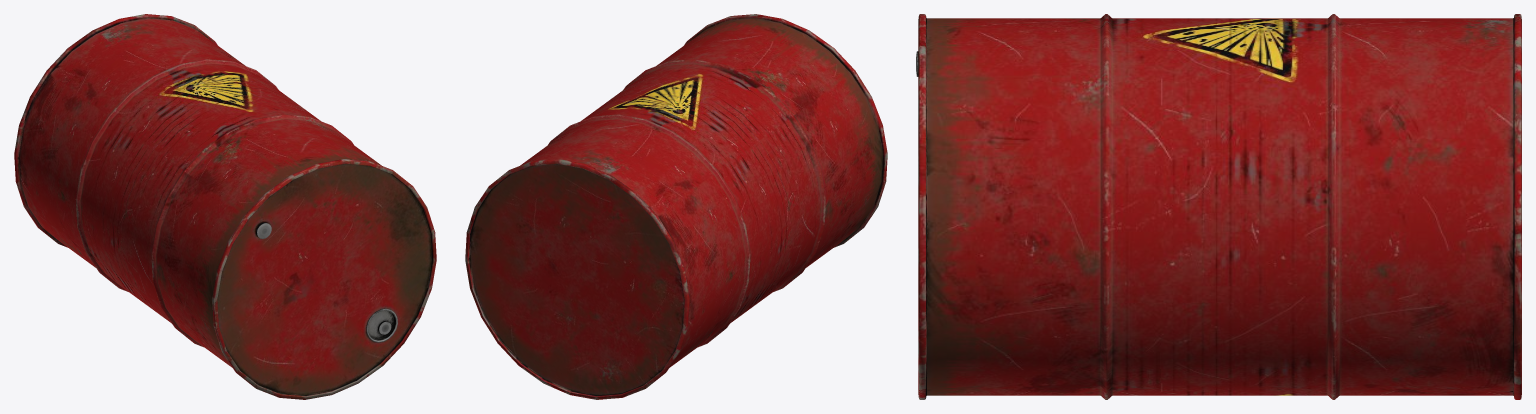
Rendered from oil_barrel.obj.
The picture shows the model from 3 angles, left to right: view 1: azimuth 30°, elevation 25°; view 2: azimuth 150°, elevation 25°; view 3: azimuth 270°, elevation 25°; orthographic projection. The views are drawn at different scales.
Visible parts, largest first — view 1: Barrel_01; view 2: Barrel_01; view 3: Barrel_01.
Part boxes in pixels (box(x1,y1,x2,y2)): Barrel_01: box(14, 14, 436, 399); Barrel_01: box(465, 14, 887, 399); Barrel_01: box(916, 14, 1521, 399).
Size of the model in its own units: 0.563 by 0.563 by 0.88.
1 material, 1 textured.
